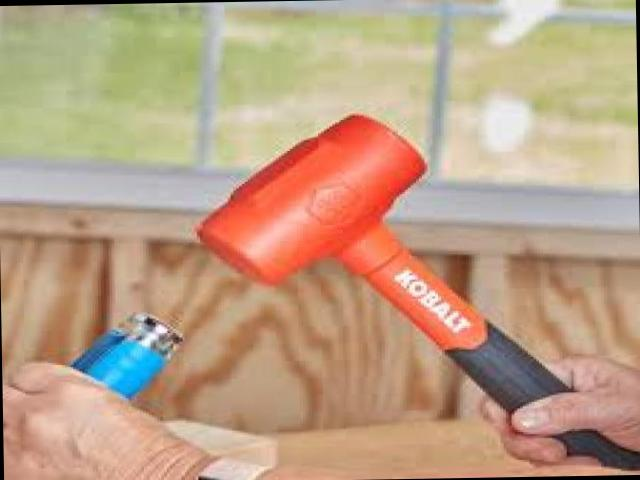hammer: (190, 105, 640, 480)
